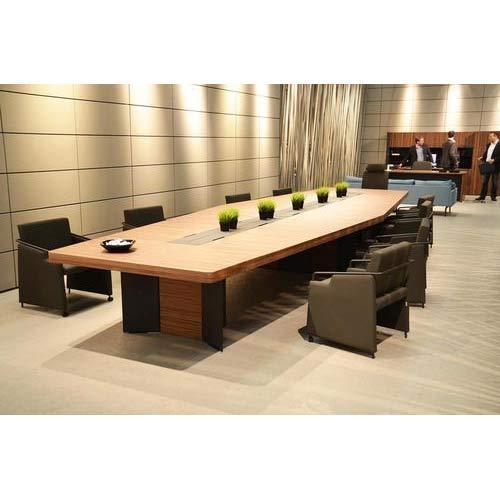conference_table: (48, 186, 409, 352), (389, 167, 466, 201)
